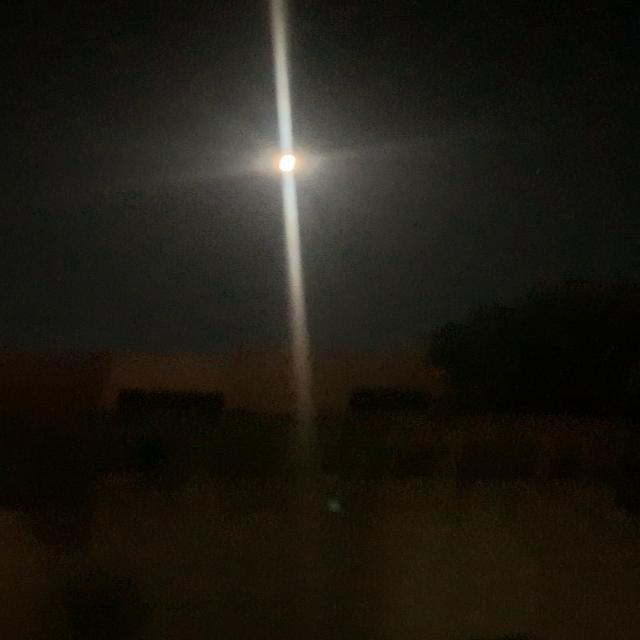moon: (258, 144, 320, 178)
